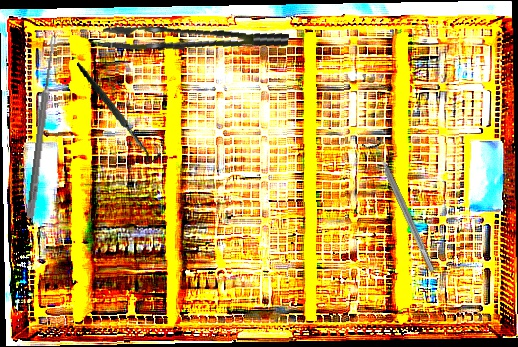Fixation Ring: (361, 135, 443, 276)
Hook Surgical: (76, 51, 163, 172)
Surgical Spoon: (26, 34, 58, 219)
Tissue Forceps: (100, 8, 290, 73)
